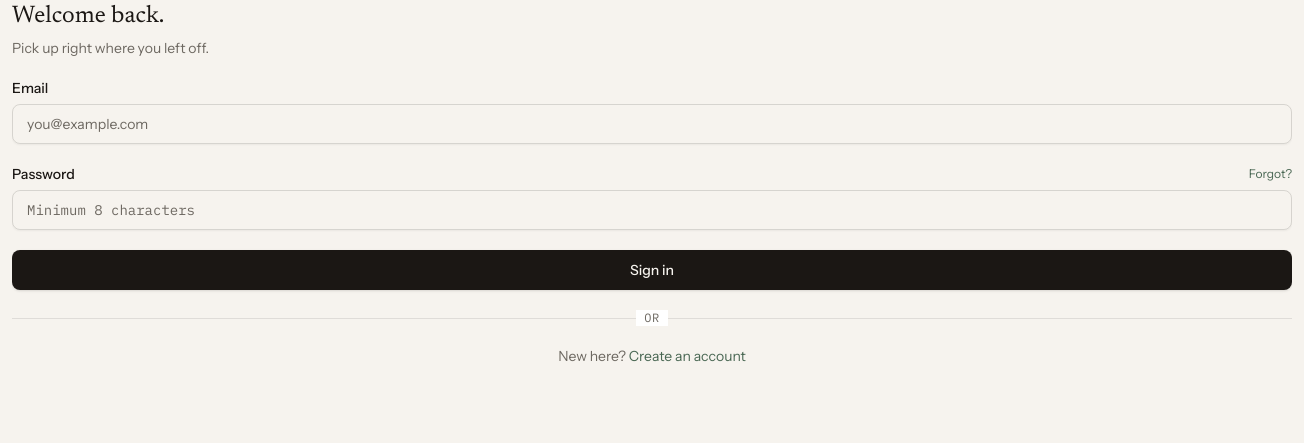
LoginForm › server-side error › displays the error message when login fails with invalid credentials
In the field labelled "Email": (652, 124) [12,104,1292,144], type "user@example.com"
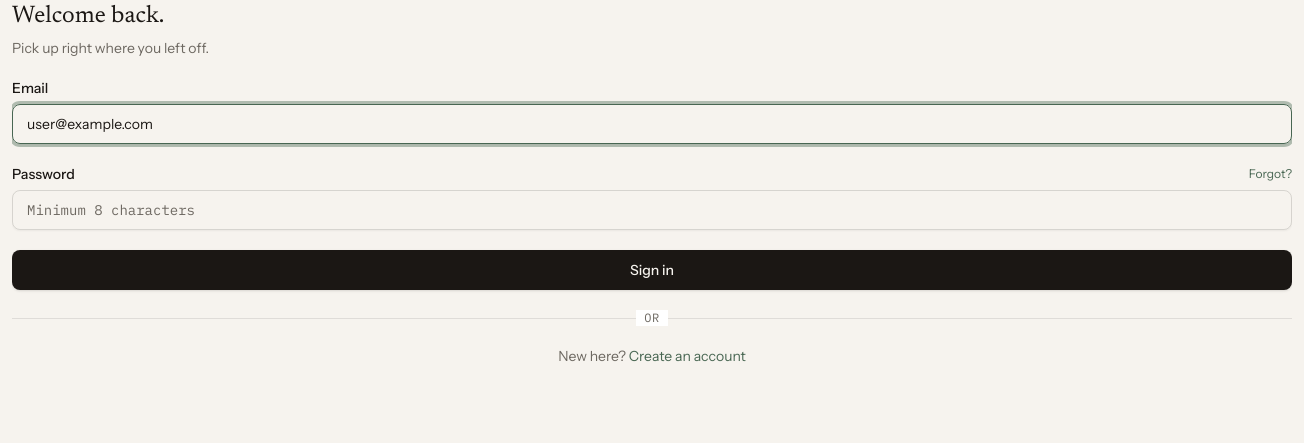
In the password field labelled "Password": (652, 210) [12,190,1292,230], type "password123"
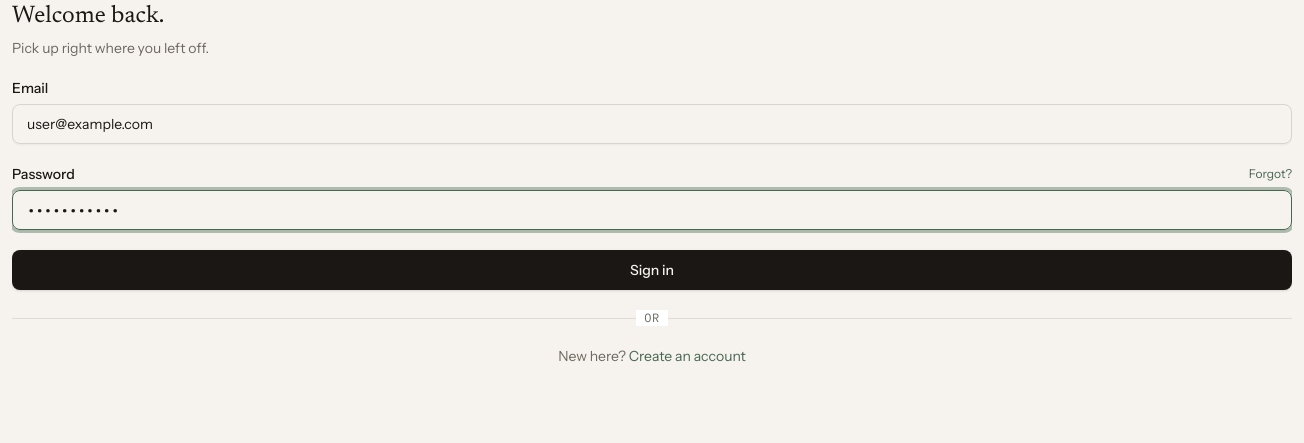
Click the button "Sign in": (652, 270) [12,250,1292,290]
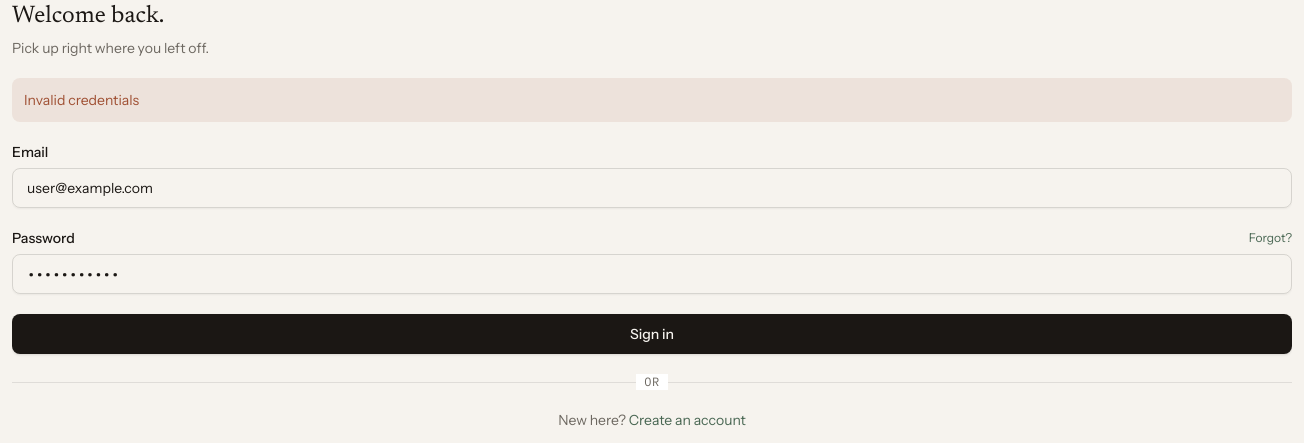
Now the text "Invalid credentials" is shown, box [12,78,1292,122]
